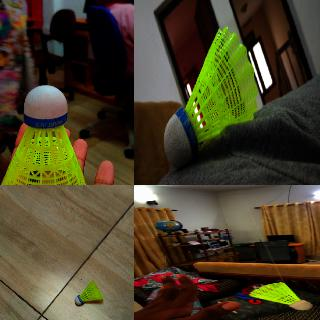shuttlecock: (163, 27, 257, 166), (0, 84, 89, 184), (247, 282, 312, 310), (75, 279, 103, 305)
